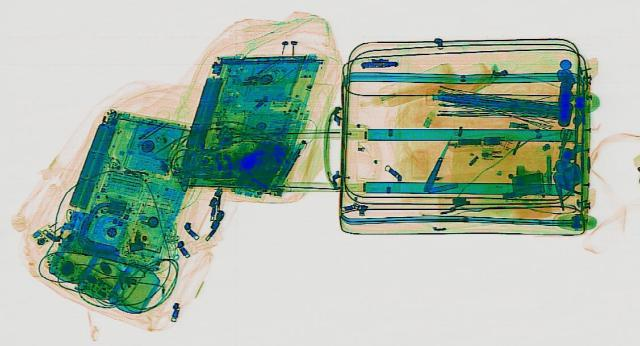Knife: (420, 133, 456, 189)
